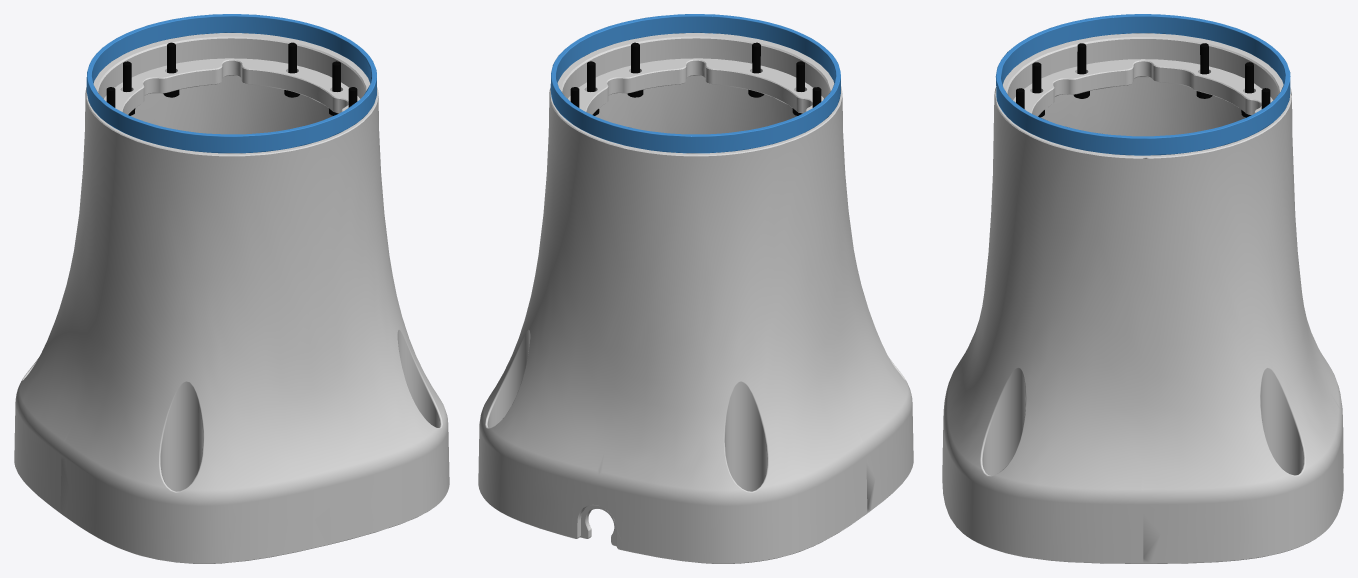
The picture shows the model from 3 angles, left to right: view 1: azimuth 30°, elevation 25°; view 2: azimuth 150°, elevation 25°; view 3: azimuth 270°, elevation 25°; orthographic projection.
Size of the model in its own units: 135 by 149 by 135.
